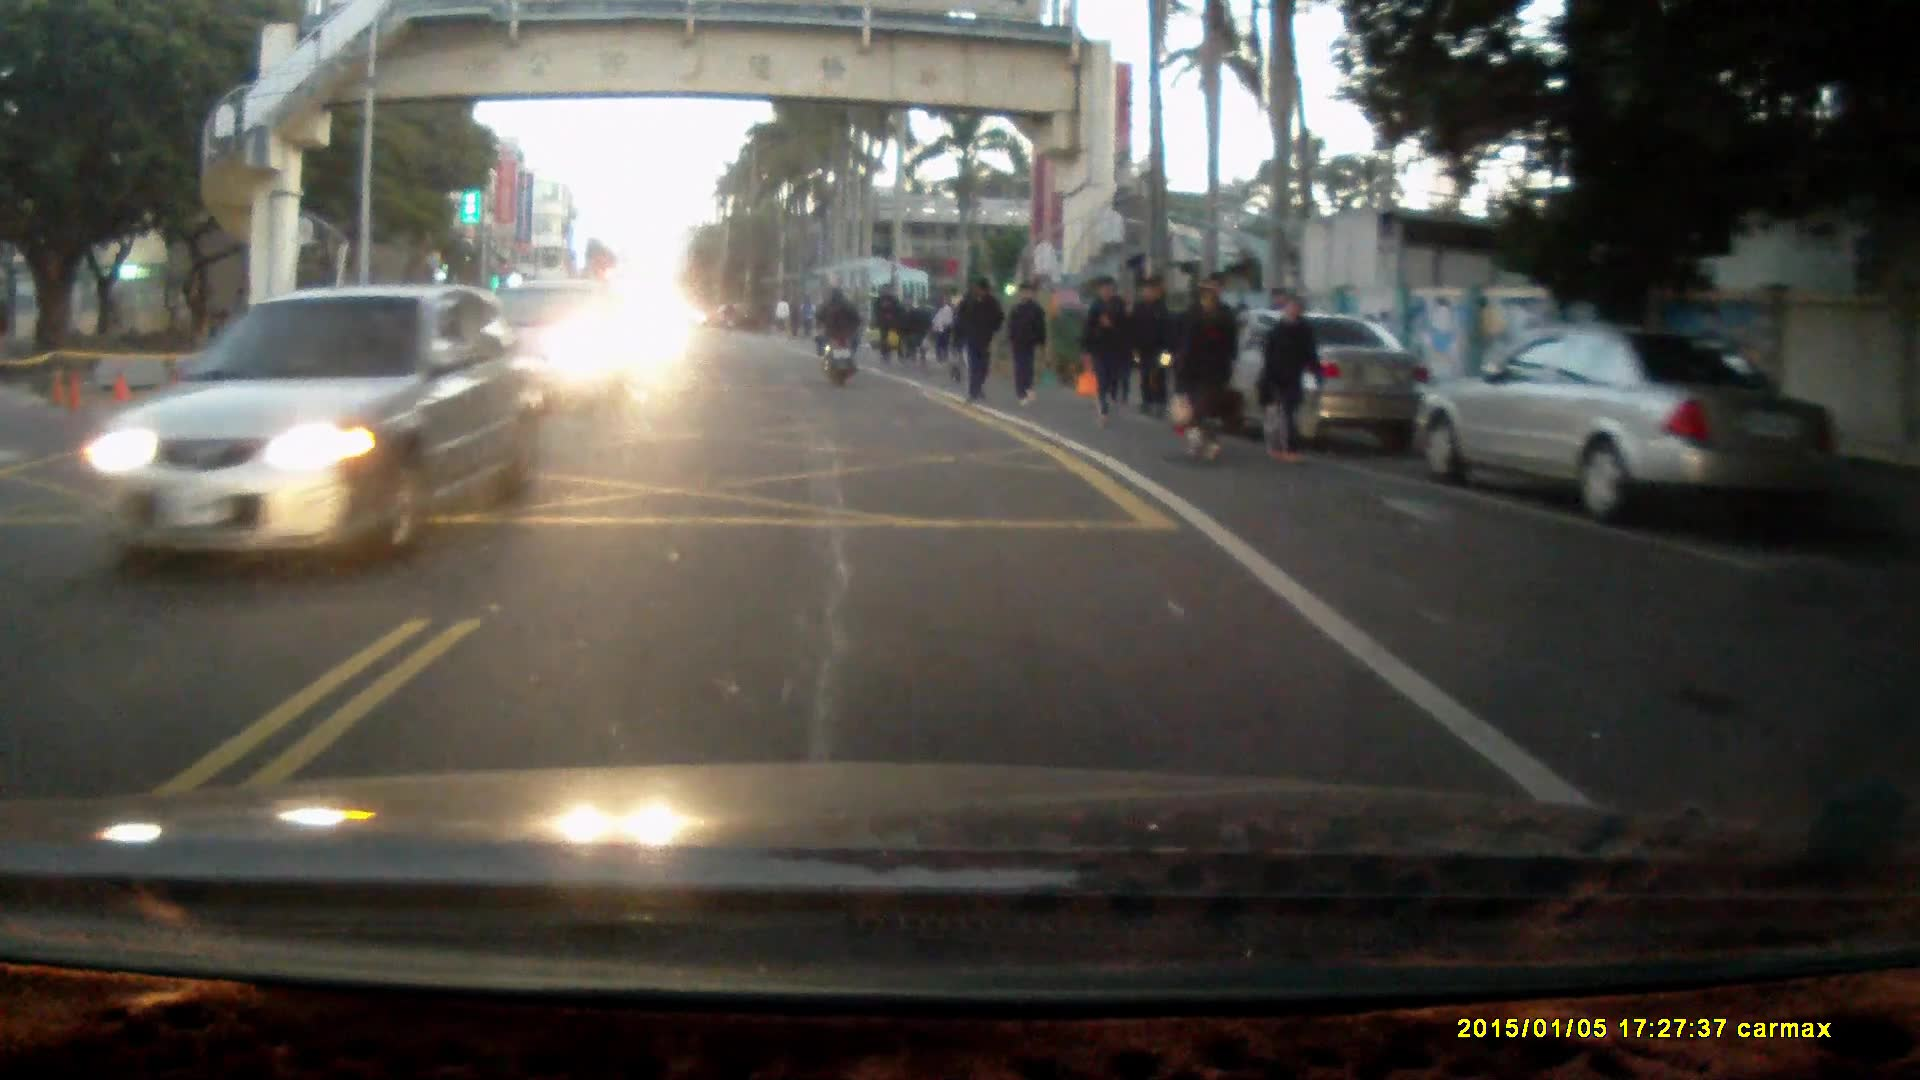pedestrian: (1256, 288, 1326, 462), (1179, 283, 1239, 457), (1077, 276, 1127, 429), (954, 274, 1006, 402), (1137, 270, 1180, 414), (1003, 276, 1050, 405), (868, 282, 898, 365), (928, 288, 956, 366), (893, 287, 922, 361)
rider: (813, 282, 861, 385)
vehicle: (64, 281, 547, 573), (1412, 318, 1839, 523), (1173, 310, 1437, 440)
